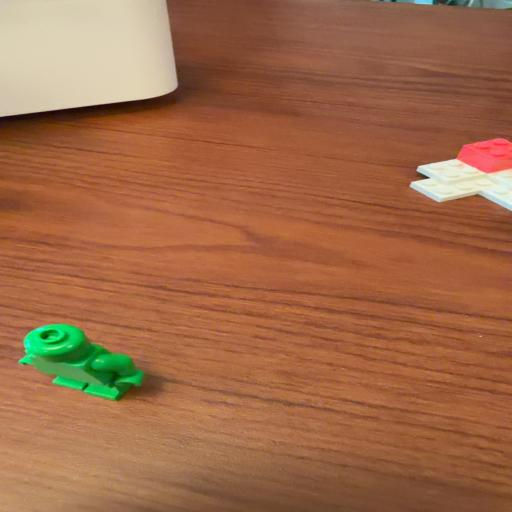UnoQ-minifig-detector: (19, 324, 144, 401)
